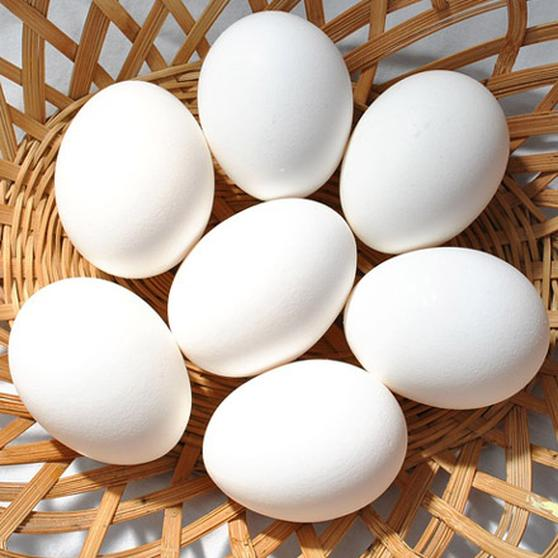egg: (8, 279, 193, 467), (199, 358, 408, 524), (342, 248, 548, 405), (174, 197, 357, 373), (189, 6, 353, 202), (54, 81, 215, 279), (341, 73, 512, 257)
